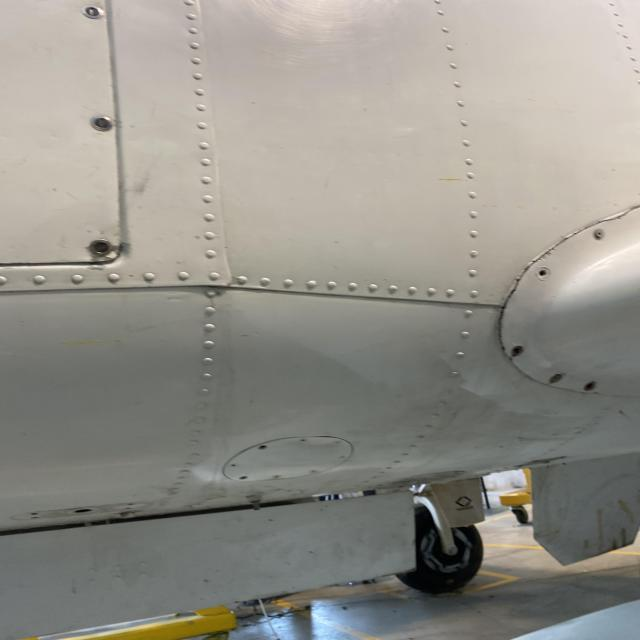Fastener Damage: (536, 266, 552, 280), (512, 344, 526, 356), (582, 381, 598, 391), (235, 474, 250, 482), (258, 443, 270, 451)
Rupture: (488, 276, 528, 344), (516, 230, 572, 270), (597, 198, 640, 227)
